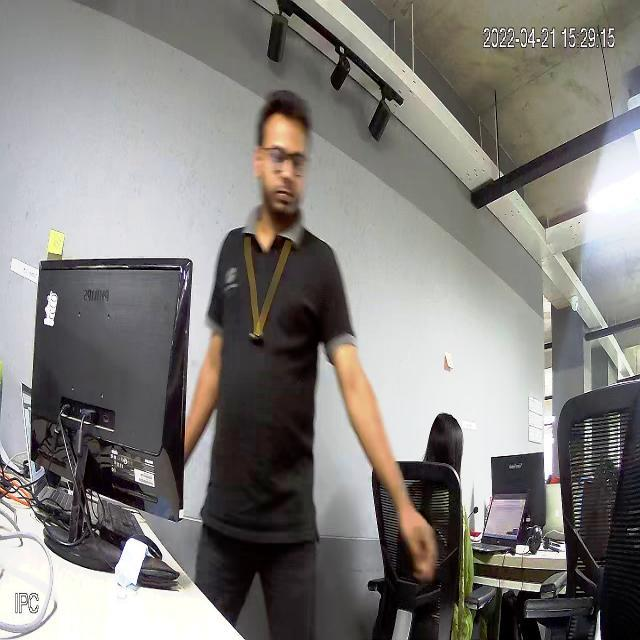Knife: (179, 504, 210, 538)
